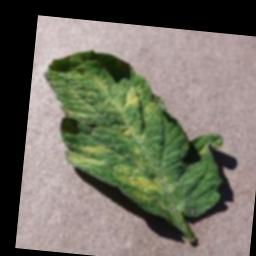Leaf_Mold: (110, 162, 169, 202), (63, 140, 112, 170), (122, 80, 143, 114)
